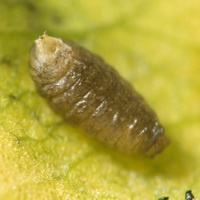insect: (30, 32, 168, 156)
